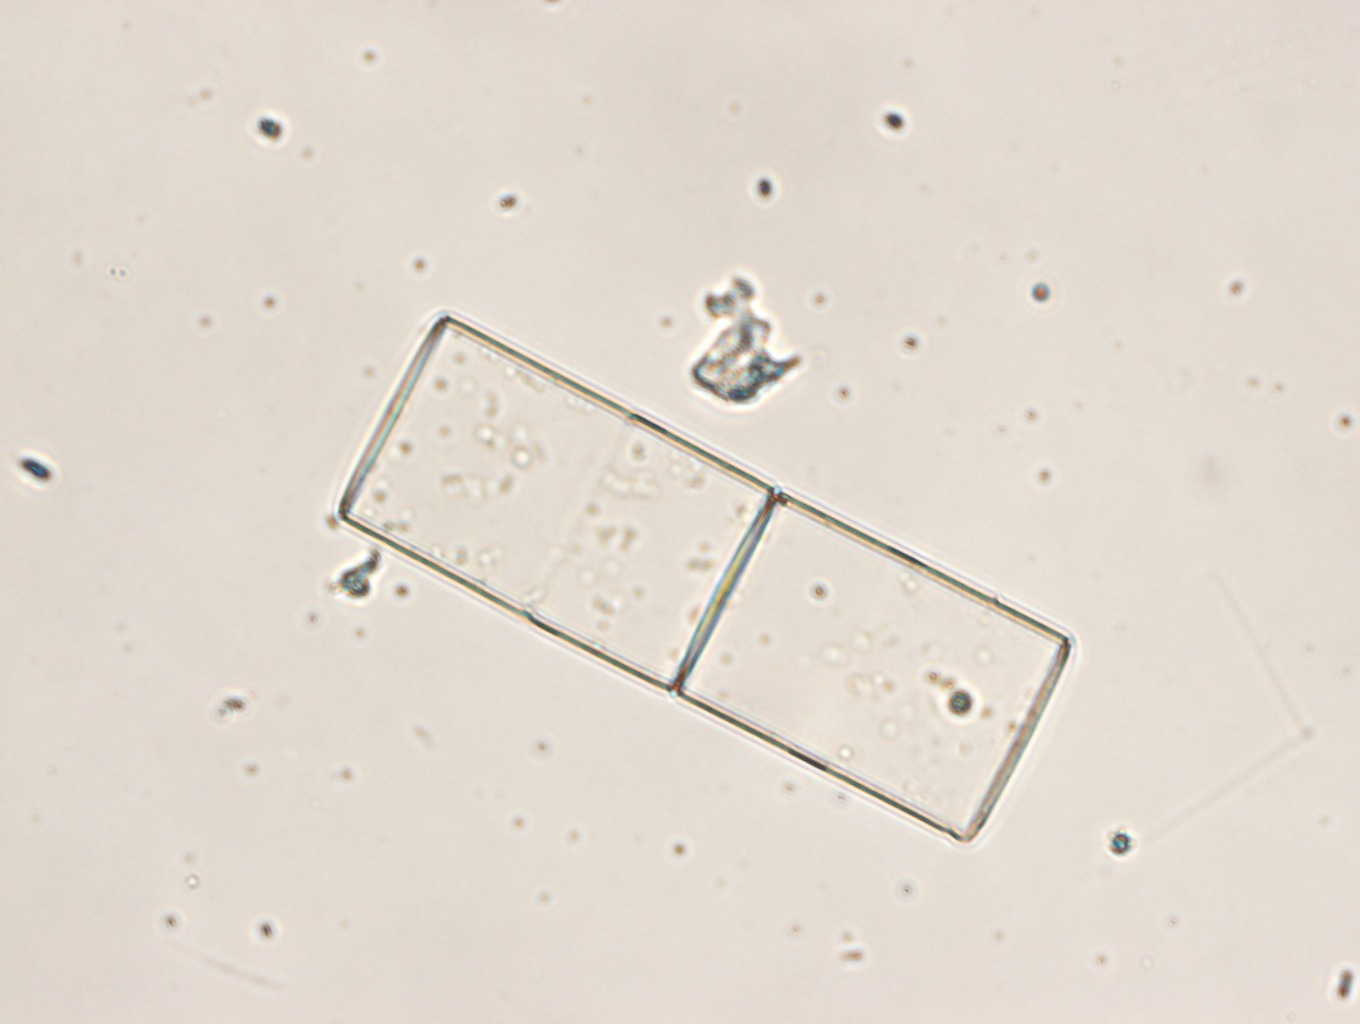guinardia flaccida: (334, 312, 1073, 843)
